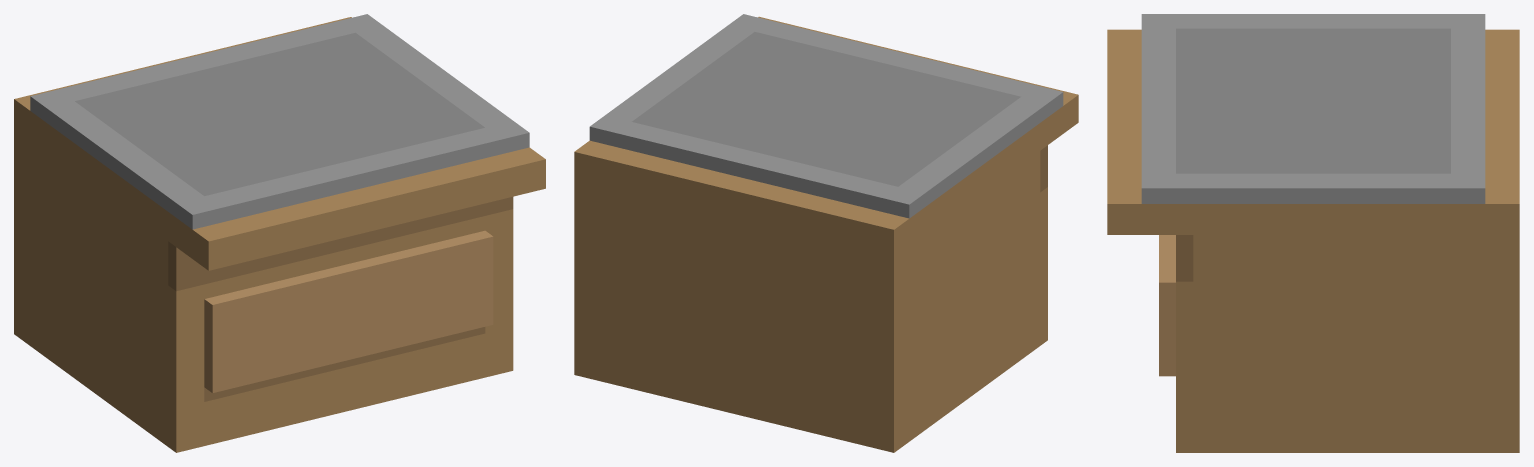
File: memorial-table.vox-0-sink_plate.obj
3 renders of one model, left to right at view 1: azimuth 30°, elevation 25°; view 2: azimuth 150°, elevation 25°; view 3: azimuth 270°, elevation 25°, orthographic. The views are drawn at different scales.
Parts seen in each view (by area): view 1: sink_plate; view 2: sink_plate; view 3: sink_plate.
Part boxes in pixels (box(x1,y1,x2,y2)): sink_plate: box(14, 14, 545, 452); sink_plate: box(574, 14, 1078, 452); sink_plate: box(1107, 14, 1519, 452).
Bounding box in the file's own units: 2.4 × 1.7 × 2.4.
Materials: 1 (1 with a texture image).
